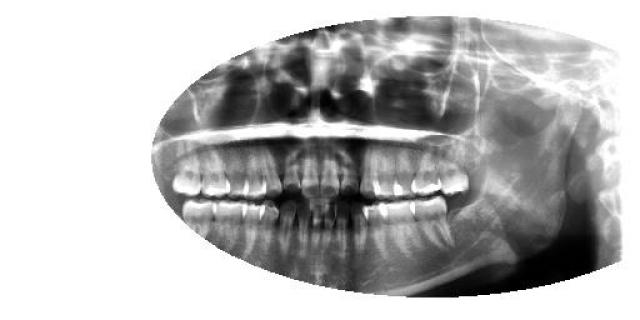Fillings: (411, 148, 444, 196)
